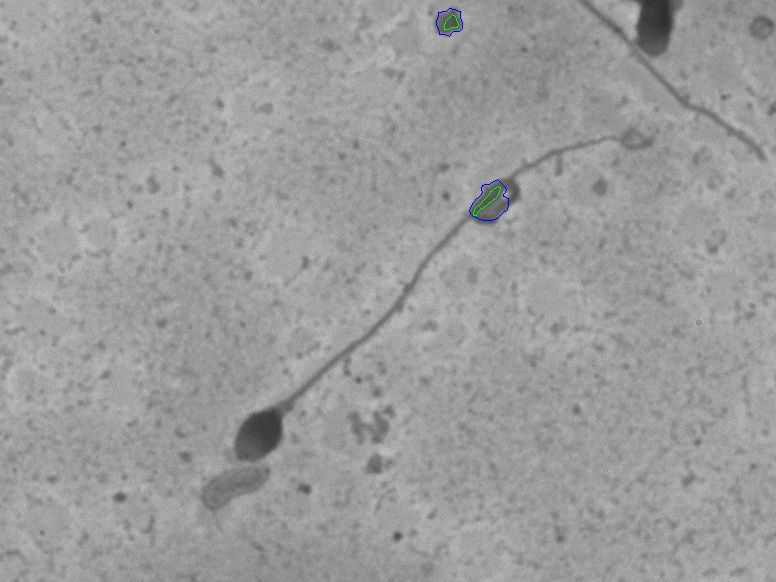Normal: (149, 56, 633, 467)
